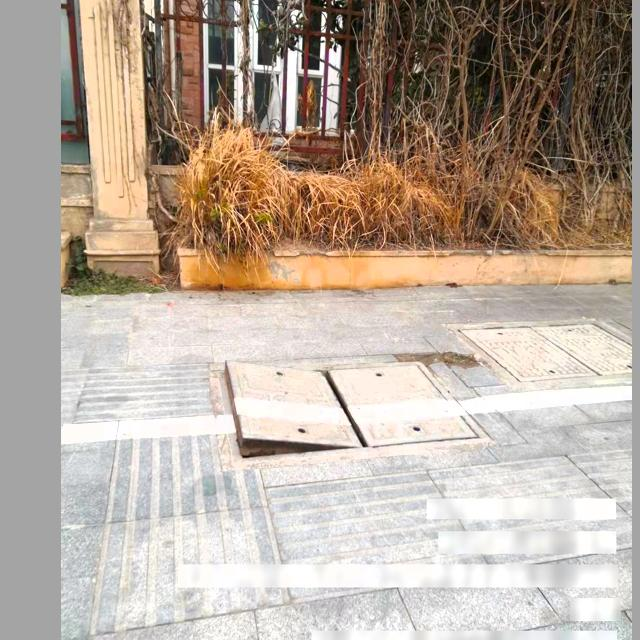good: (457, 318, 632, 388)
uncovered: (211, 357, 490, 469)
